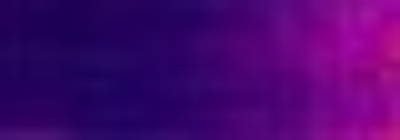Shadow: (1, 1, 310, 140)
